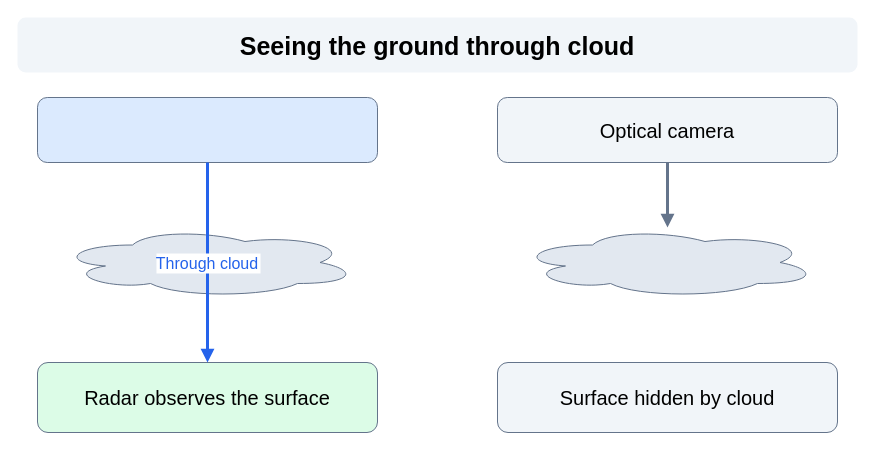
The diagram is 874 pixels wide and 450 high, and some of its shapes have lost their labels. Here are the shapes that lost their labels. From the top down, the centre of each, then its label:
the point at 207,129: NISAR L-band radar
the point at 667,262: Cloud obscures ground
